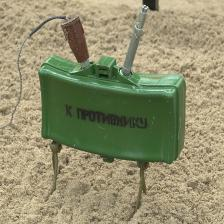MOH-50: (31, 46, 200, 180)
